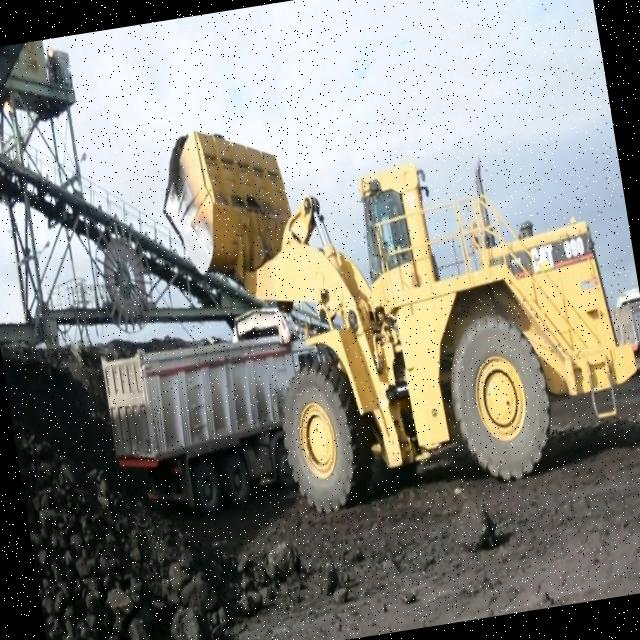Dump Truck: (86, 262, 340, 527)
Loader: (148, 55, 640, 536)
